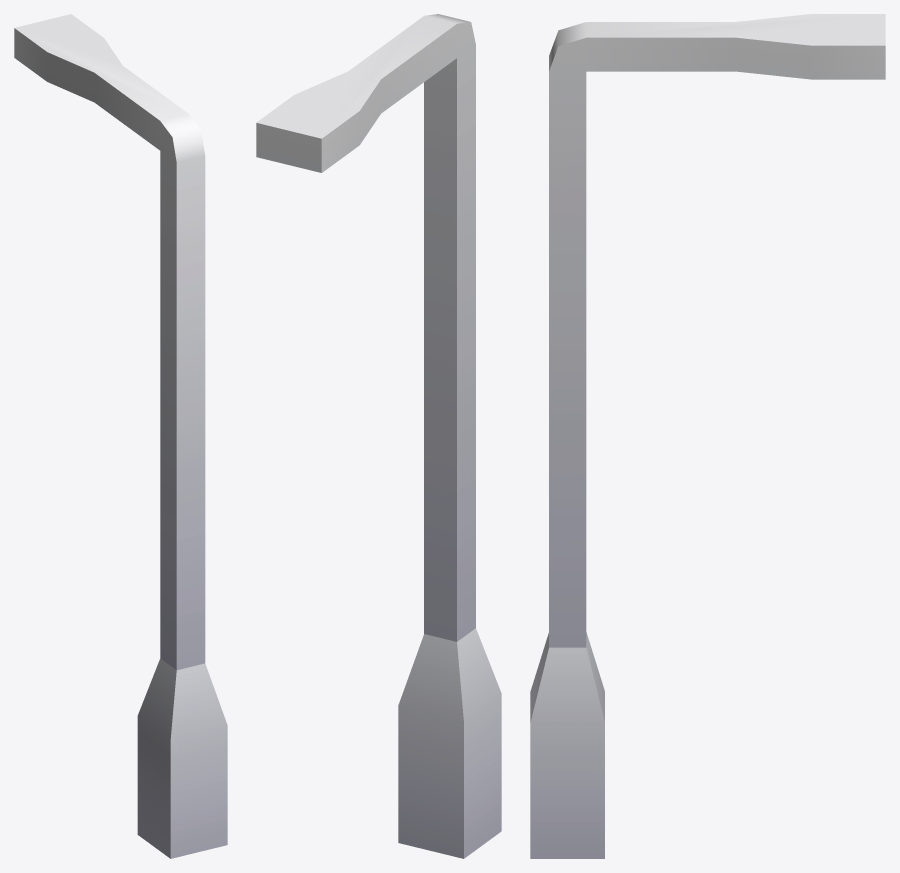
Rendered from light-square.draco.glb.
3 renders of one model, left to right at view 1: azimuth 30°, elevation 25°; view 2: azimuth 150°, elevation 25°; view 3: azimuth 270°, elevation 25°, orthographic. The views are drawn at different scales.
Parts seen in each view (by area): view 1: light-square; view 2: light-square; view 3: light-square.
Part boxes in pixels (x1,y1,x2,y2): light-square: (14,14,227,858); light-square: (256,14,501,858); light-square: (530,14,885,858).
Bounding box in the file's own units: 0.05 × 0.6 × 0.2375.
Materials: 1 (1 with a texture image).
